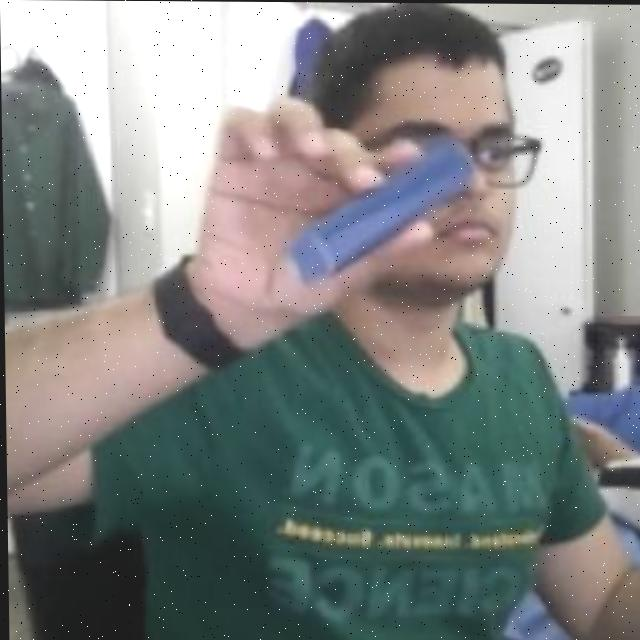vape: (280, 137, 477, 292)
